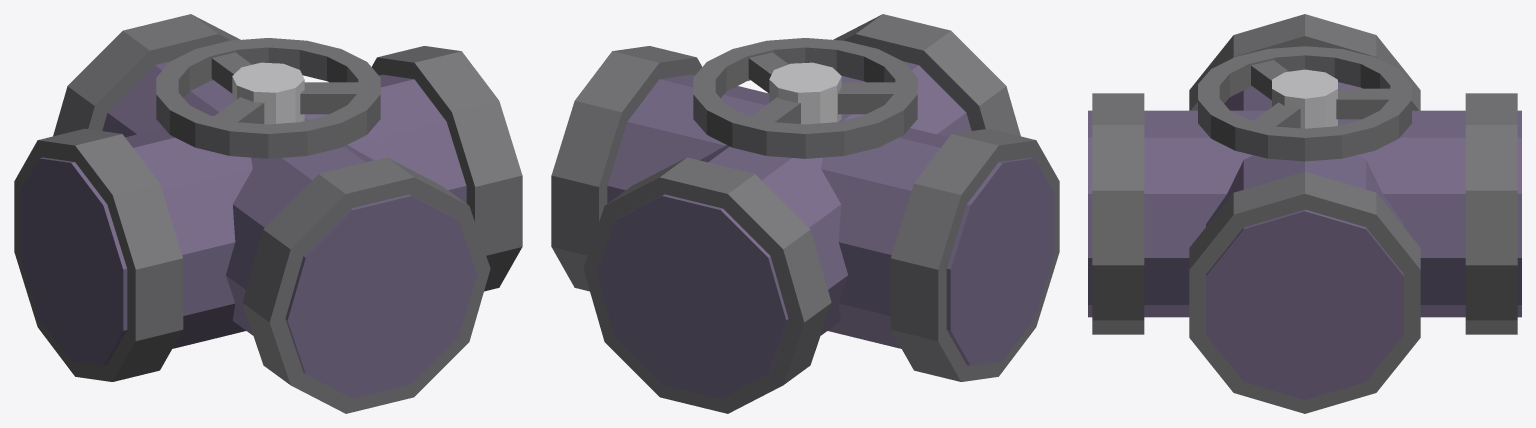
The model's file is vge_astrofuel_valve_off.obj.
The picture shows the model from 3 angles, left to right: view 1: azimuth 30°, elevation 25°; view 2: azimuth 150°, elevation 25°; view 3: azimuth 270°, elevation 25°; orthographic projection. The views are drawn at different scales.
Parts seen in each view (by area): view 1: vge_astrofuel_valve_off_1, vge_astrofuel_valve_off_0, vge_astrofuel_valve_off_3, vge_astrofuel_valve_off_2, vge_astrofuel_valve_off_6, vge_astrofuel_valve_off_4, vge_astrofuel_valve_off_5, vge_astrofuel_valve_off_7, vge_astrofuel_valve_off_10, vge_astrofuel_valve_off_9, vge_astrofuel_valve_off_8; view 2: vge_astrofuel_valve_off_0, vge_astrofuel_valve_off_1, vge_astrofuel_valve_off_5, vge_astrofuel_valve_off_2, vge_astrofuel_valve_off_6, vge_astrofuel_valve_off_4, vge_astrofuel_valve_off_3, vge_astrofuel_valve_off_7, vge_astrofuel_valve_off_9, vge_astrofuel_valve_off_10, vge_astrofuel_valve_off_8; view 3: vge_astrofuel_valve_off_0, vge_astrofuel_valve_off_1, vge_astrofuel_valve_off_4, vge_astrofuel_valve_off_6, vge_astrofuel_valve_off_3, vge_astrofuel_valve_off_5, vge_astrofuel_valve_off_2, vge_astrofuel_valve_off_7, vge_astrofuel_valve_off_8, vge_astrofuel_valve_off_10, vge_astrofuel_valve_off_9.
Boxes of the visible parts, x1,y1,x2,y2 form: vge_astrofuel_valve_off_1: (102,61,476,398); vge_astrofuel_valve_off_0: (19,74,466,365); vge_astrofuel_valve_off_3: (242,157,490,413); vge_astrofuel_valve_off_2: (14,128,183,381); vge_astrofuel_valve_off_6: (156,38,380,158); vge_astrofuel_valve_off_4: (372,46,522,291); vge_astrofuel_valve_off_5: (53,14,240,136); vge_astrofuel_valve_off_7: (232,62,304,124); vge_astrofuel_valve_off_10: (300,82,358,114); vge_astrofuel_valve_off_9: (214,97,264,123); vge_astrofuel_valve_off_8: (211,52,251,93); vge_astrofuel_valve_off_0: (607,74,1054,365); vge_astrofuel_valve_off_1: (597,61,971,398); vge_astrofuel_valve_off_5: (583,157,831,413); vge_astrofuel_valve_off_2: (890,128,1059,381); vge_astrofuel_valve_off_6: (693,38,917,158); vge_astrofuel_valve_off_4: (551,46,701,291); vge_astrofuel_valve_off_3: (833,14,1020,136); vge_astrofuel_valve_off_7: (769,62,841,124); vge_astrofuel_valve_off_9: (838,82,895,114); vge_astrofuel_valve_off_10: (748,52,788,93); vge_astrofuel_valve_off_8: (751,97,800,123); vge_astrofuel_valve_off_0: (1206,82,1403,399); vge_astrofuel_valve_off_1: (1088,110,1521,317); vge_astrofuel_valve_off_4: (1189,172,1420,413); vge_astrofuel_valve_off_6: (1198,46,1411,161); vge_astrofuel_valve_off_3: (1092,93,1144,334); vge_astrofuel_valve_off_5: (1465,93,1517,334); vge_astrofuel_valve_off_2: (1189,14,1420,110); vge_astrofuel_valve_off_7: (1272,69,1337,128); vge_astrofuel_valve_off_8: (1336,88,1390,119); vge_astrofuel_valve_off_10: (1253,102,1300,128); vge_astrofuel_valve_off_9: (1251,60,1288,100).
Size of the model in its own units: 1 by 0.61 by 1.
